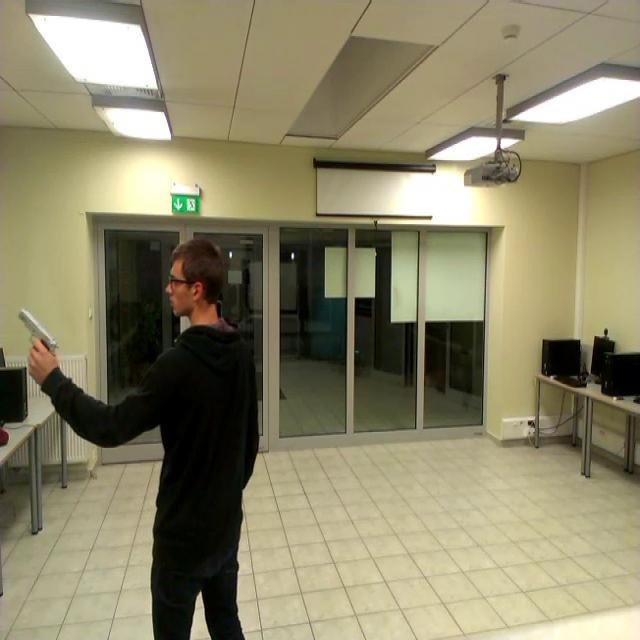weapon: (20, 309, 58, 373)
